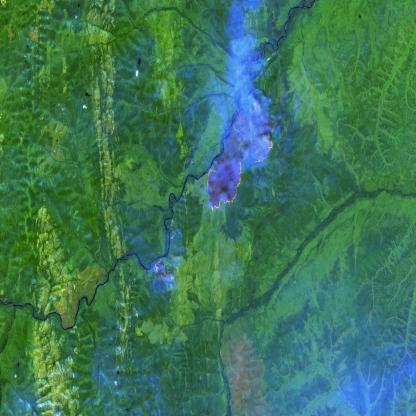fire: (202, 93, 277, 219), (152, 256, 174, 285)
